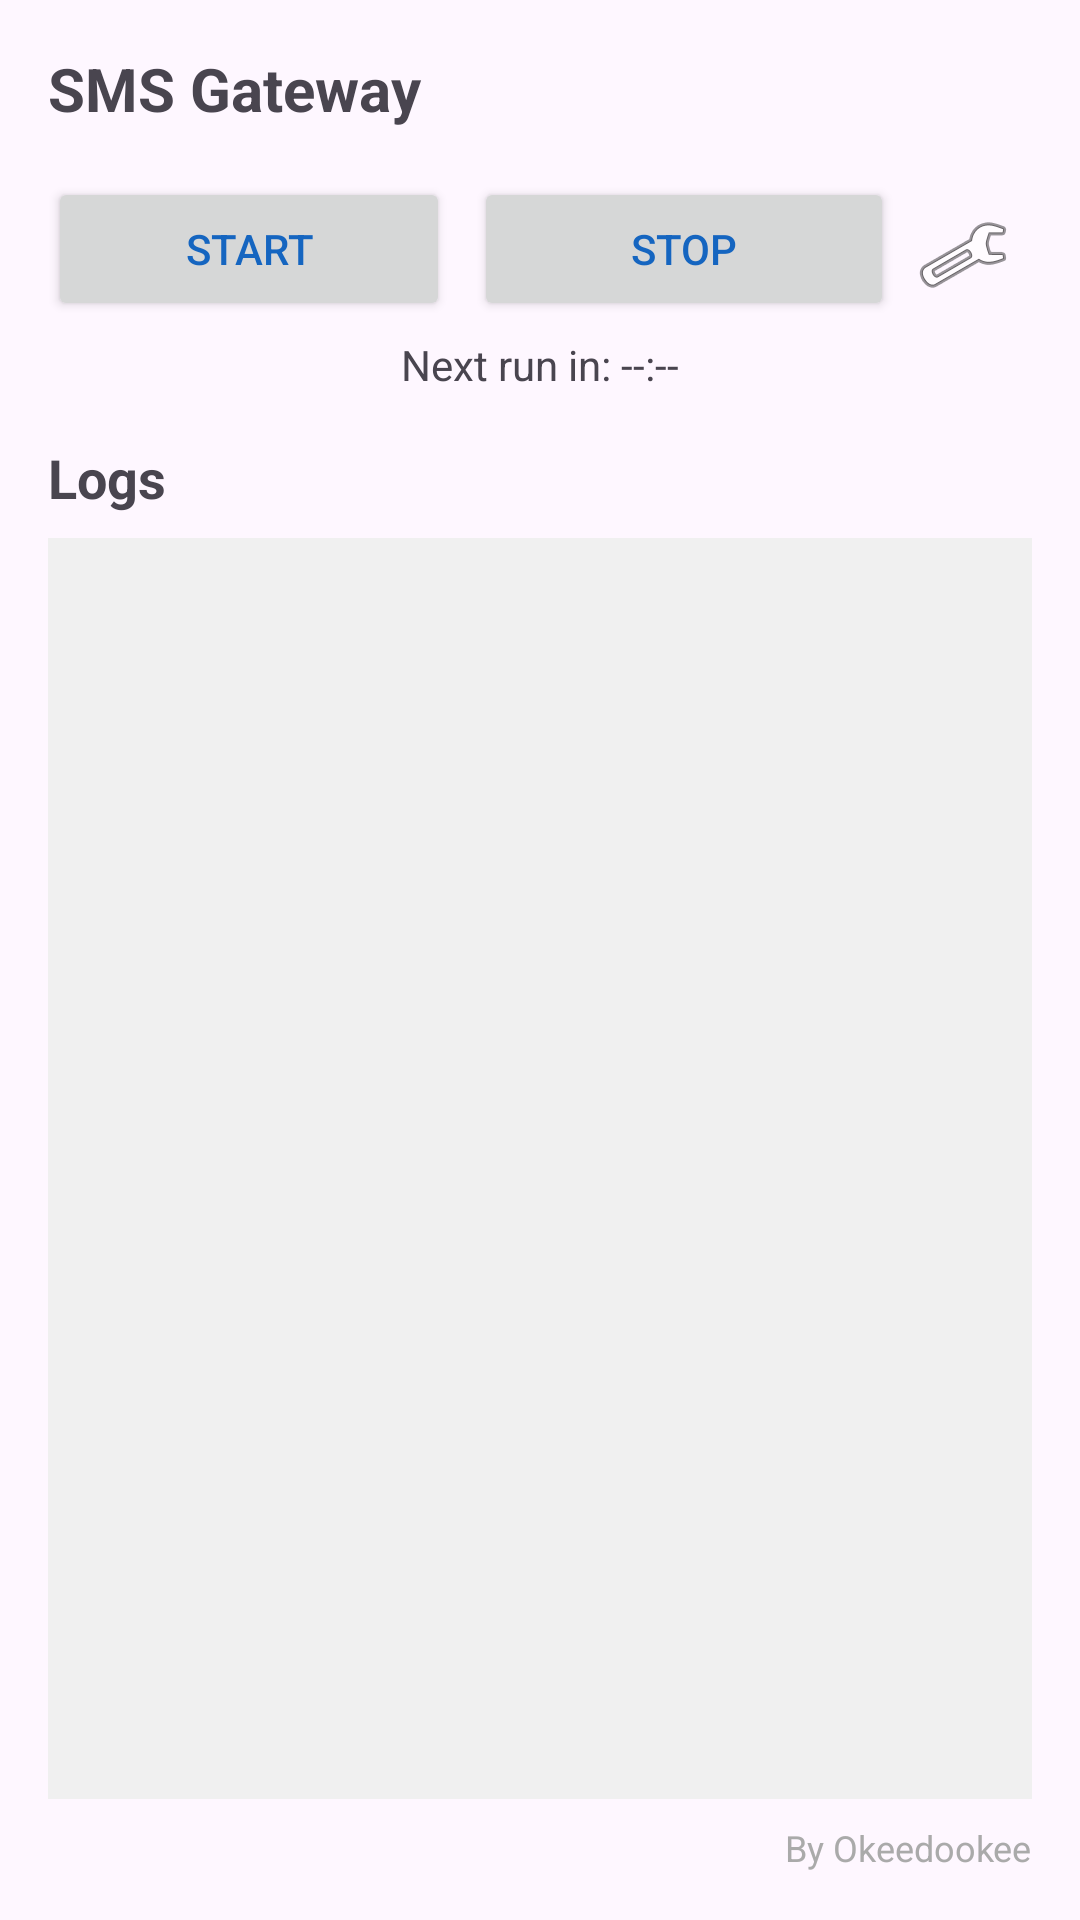

Point at icon controls on the screen. Image size 1080 x 1920, points as [x,y].
Settings: [963,255]
